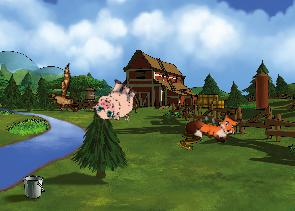eagle: (37, 63, 90, 121)
fox: (184, 100, 243, 148)
pig: (90, 74, 142, 128)
